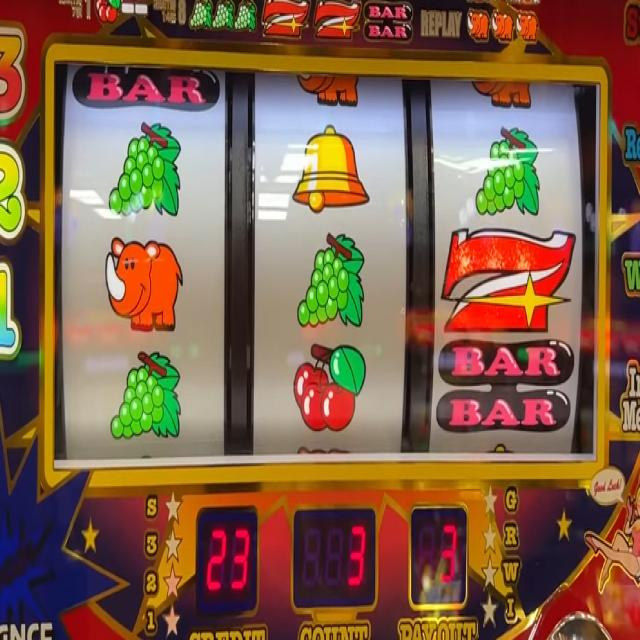bar: (437, 342, 575, 433), (70, 62, 221, 117), (362, 0, 412, 43)
bell: (292, 123, 372, 220)
cherry: (292, 342, 368, 434), (187, 3, 212, 32), (234, 0, 254, 35), (94, 0, 122, 23), (212, 0, 232, 31)
display: (54, 56, 599, 464)
elephant: (104, 236, 184, 335), (296, 70, 364, 106), (471, 78, 536, 114), (464, 5, 488, 40), (517, 14, 539, 42), (493, 13, 513, 40)
grape: (296, 225, 365, 331), (108, 120, 182, 217), (110, 348, 182, 441), (474, 126, 542, 222)
z: (444, 222, 576, 332), (313, 0, 359, 44), (260, 0, 308, 40)
